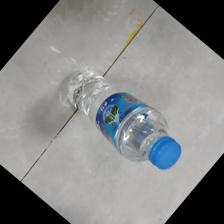Lavie: (66, 70, 184, 169)
